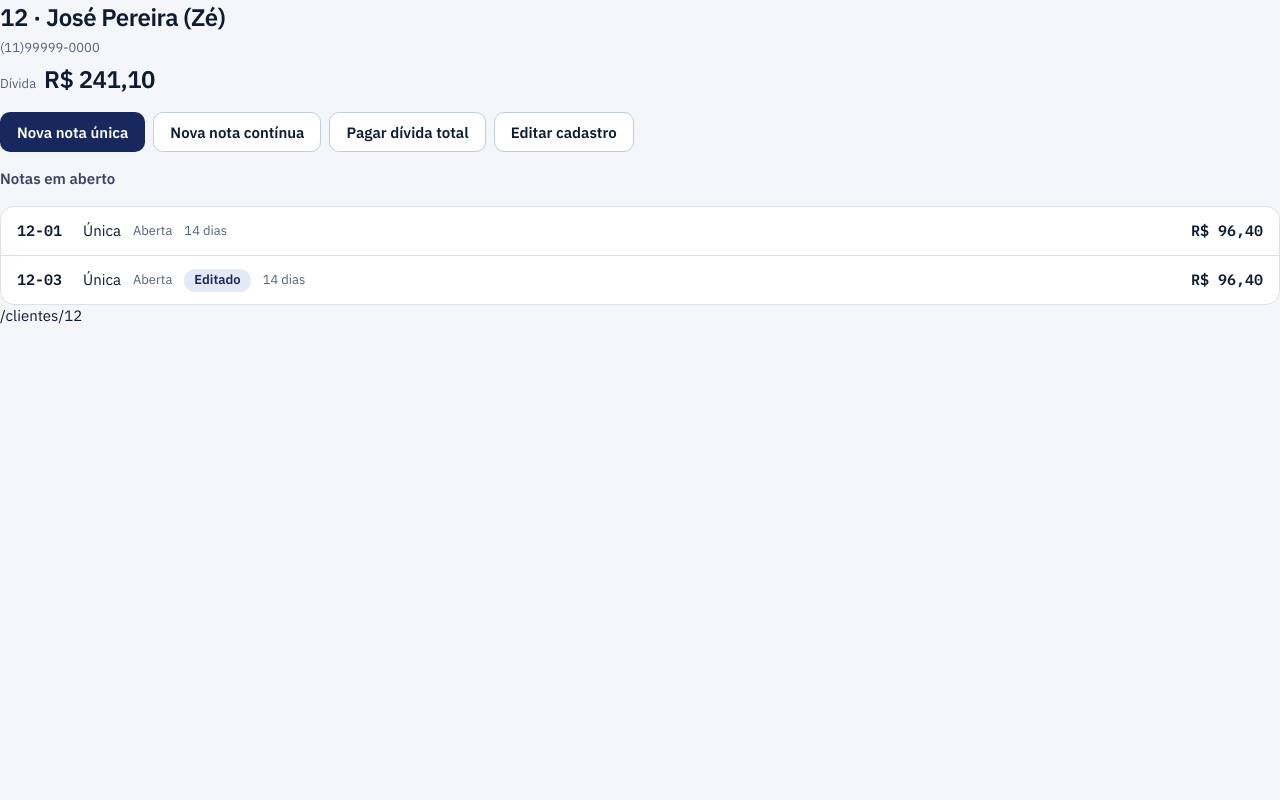
Test case: TelaCliente › Editar cadastro abre o formulário preenchido e salva com PATCH
Click the button "Editar cadastro": [564, 132] box [494,112,634,152]
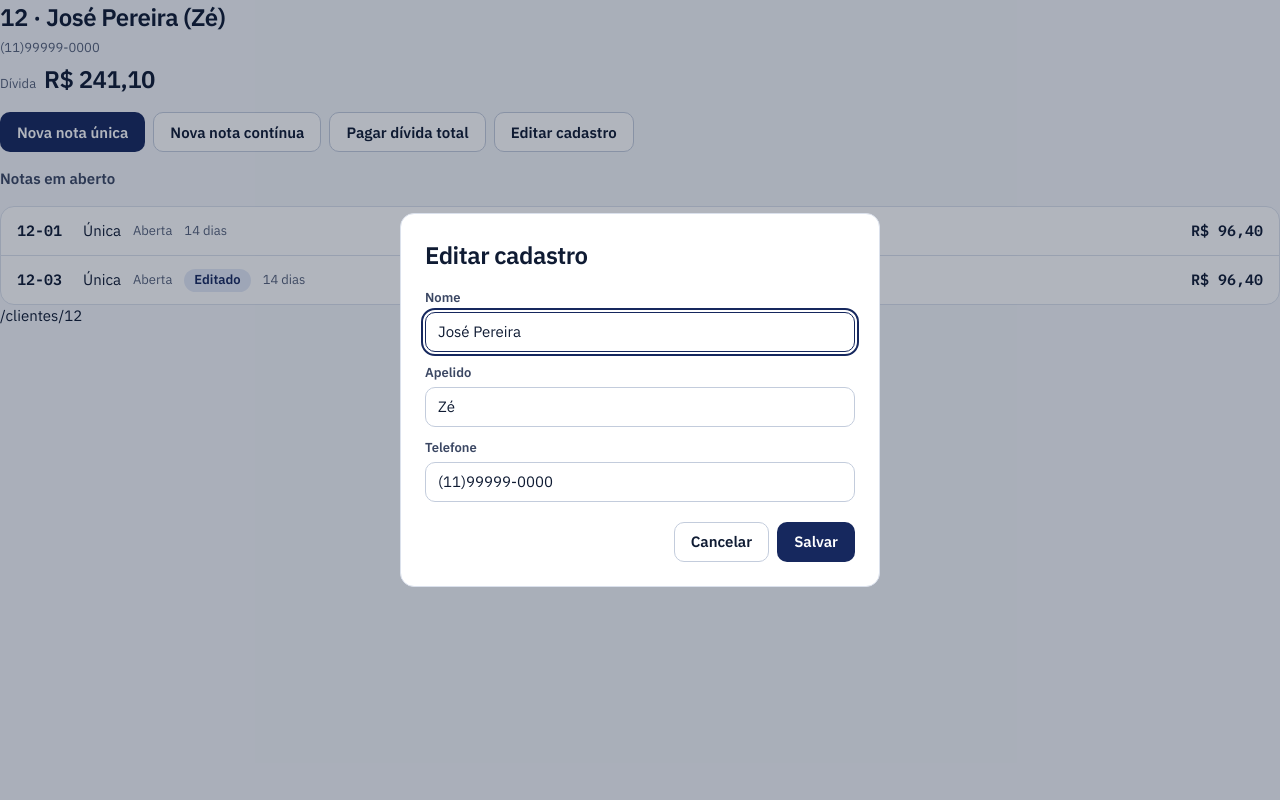
Expected: the field labelled "Nome" holds "José Pereira"
Replace the text in the field labelled "Nome" with "José P.": [640, 332] box [425,312,855,352]
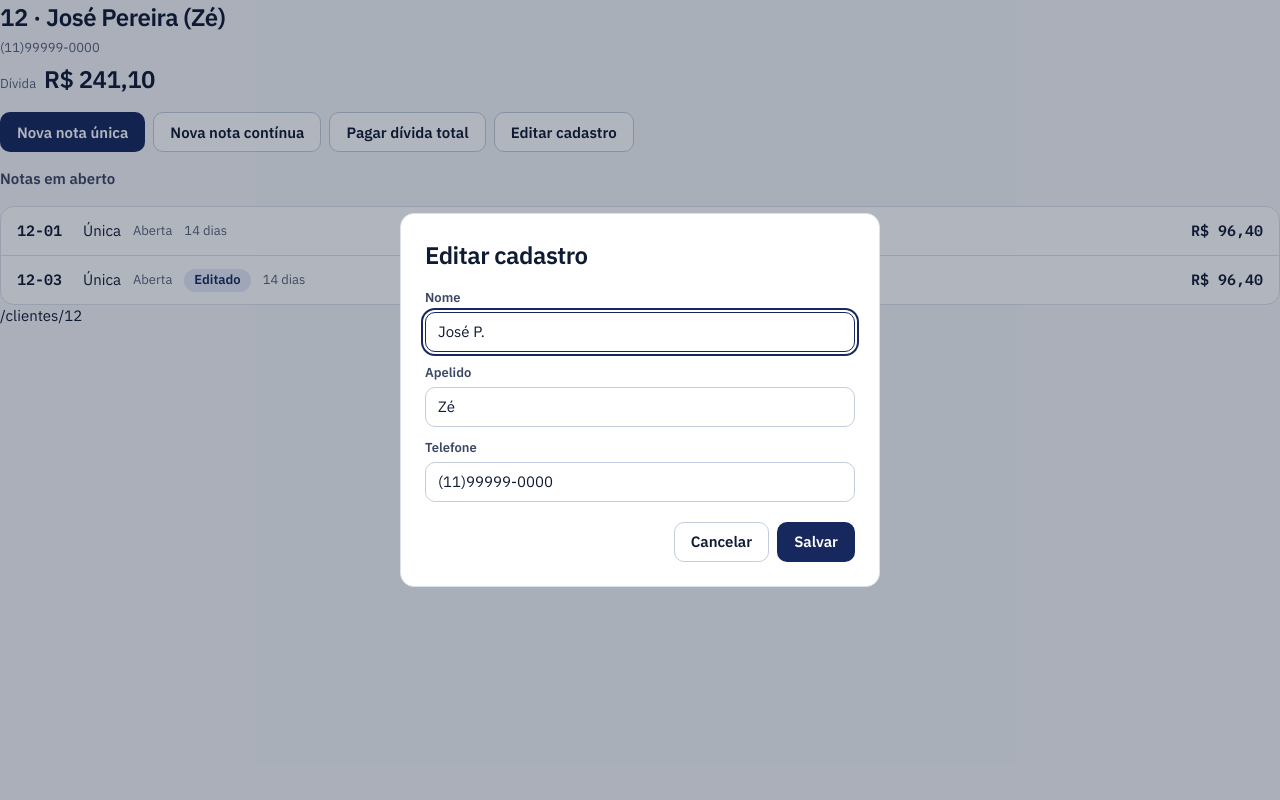
Click the button "Salvar": [816, 542] box [777,522,855,562]
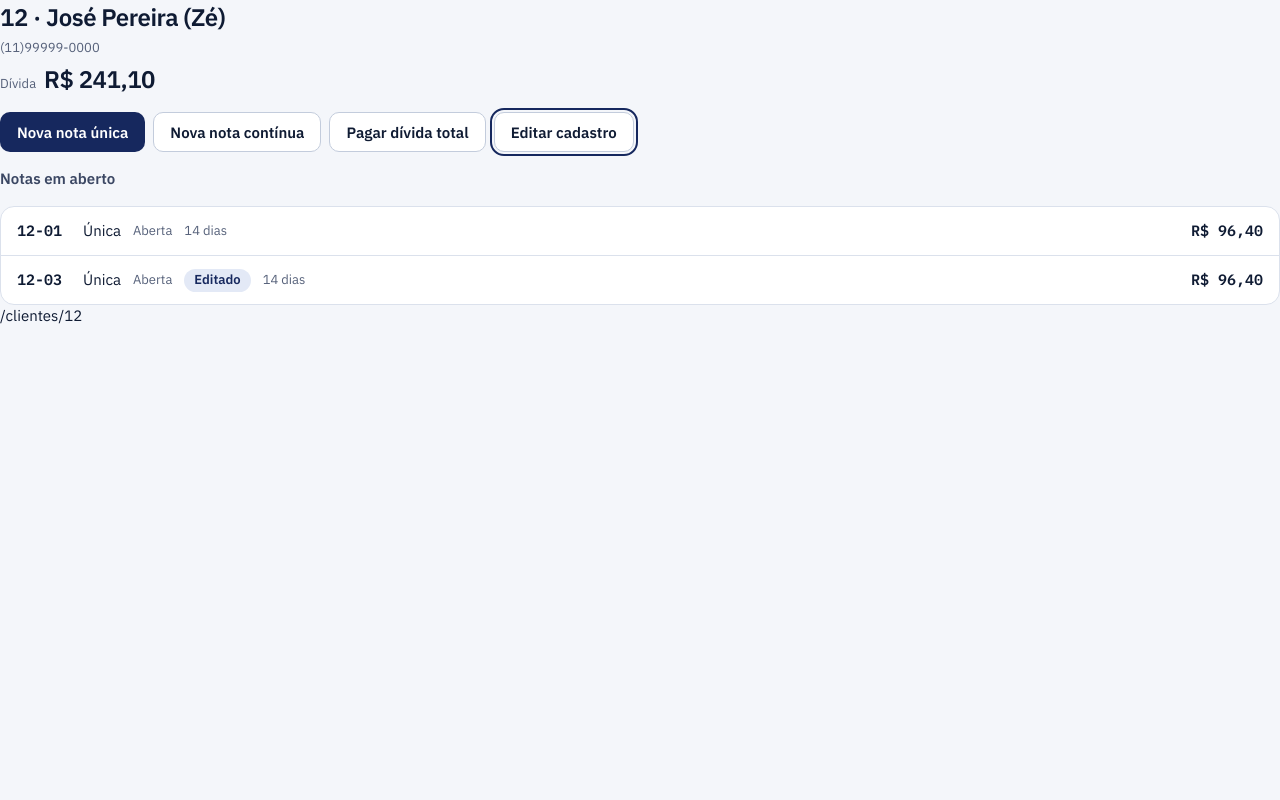
Expected: the dialog is gone
